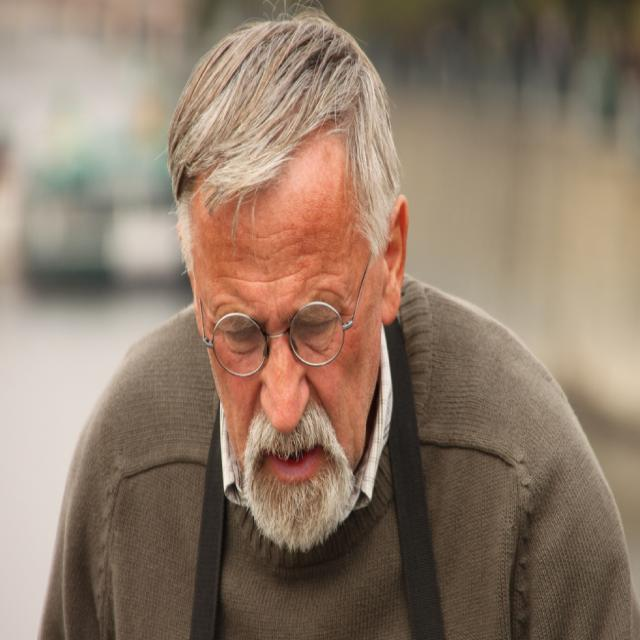Glasses: (196, 253, 373, 379)
